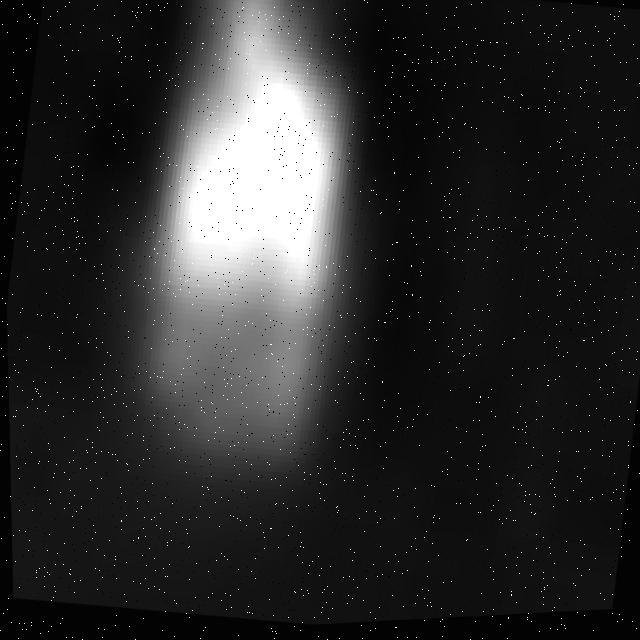person: (72, 1, 387, 511)
